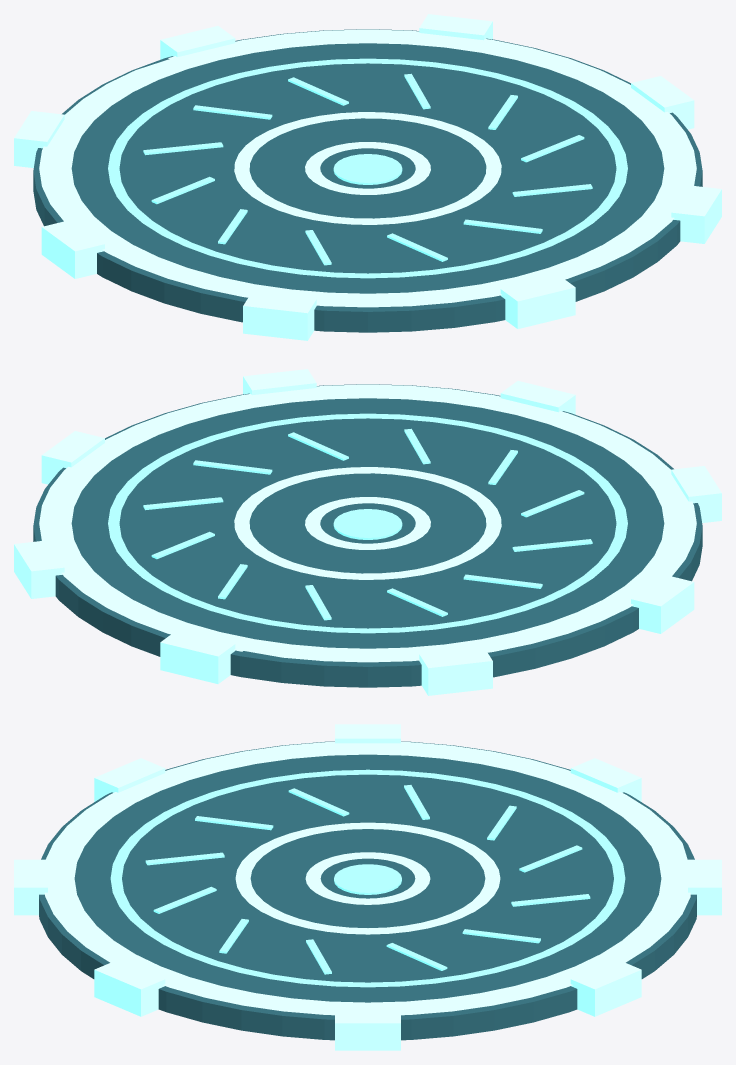
Rendered from teleport_pad.glb.
3 renders of one model, top to bottom at view 1: azimuth 30°, elevation 25°; view 2: azimuth 150°, elevation 25°; view 3: azimuth 270°, elevation 25°, orthographic.
Visible parts, largest first — view 1: TeleportPad; view 2: TeleportPad; view 3: TeleportPad.
Part boxes in pixels (left/top/right/bottom): TeleportPad: left=14, top=14, right=721, bottom=340; TeleportPad: left=14, top=369, right=721, bottom=695; TeleportPad: left=14, top=724, right=721, bottom=1050.
Bounding box in the file's own units: 3.74 × 0.16 × 3.74.
